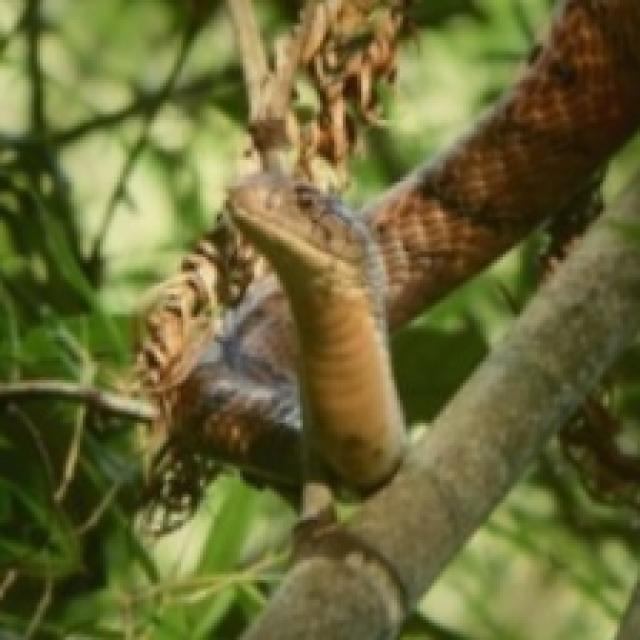king cobra: (177, 0, 637, 491), (363, 243, 637, 551)
